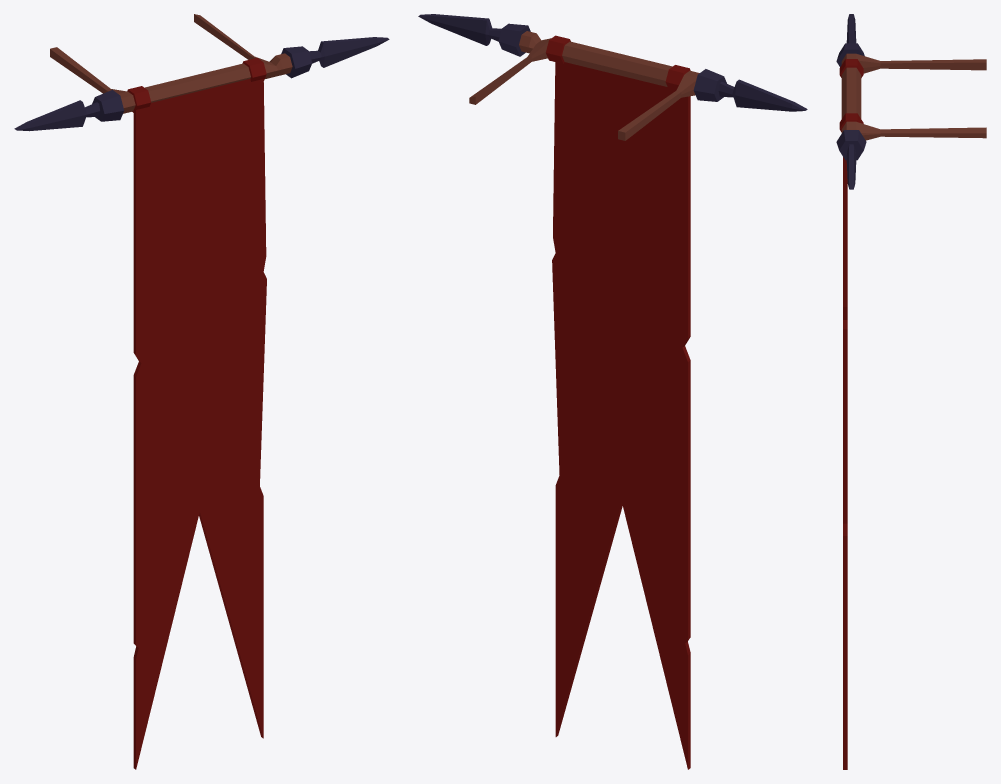
Rendered from Banner_wall.glb.
3 renders of one model, left to right at view 1: azimuth 30°, elevation 25°; view 2: azimuth 150°, elevation 25°; view 3: azimuth 270°, elevation 25°, orthographic. The views are drawn at different scales.
Parts seen in each view (by area): view 1: Banner_wall; view 2: Banner_wall; view 3: Banner_wall.
Boxes of the visible parts, x1,y1,x2,y2 form: Banner_wall: (14, 14, 389, 769); Banner_wall: (418, 14, 807, 769); Banner_wall: (836, 14, 986, 769).
Size of the model in its own units: 164 by 285 by 59.31.
